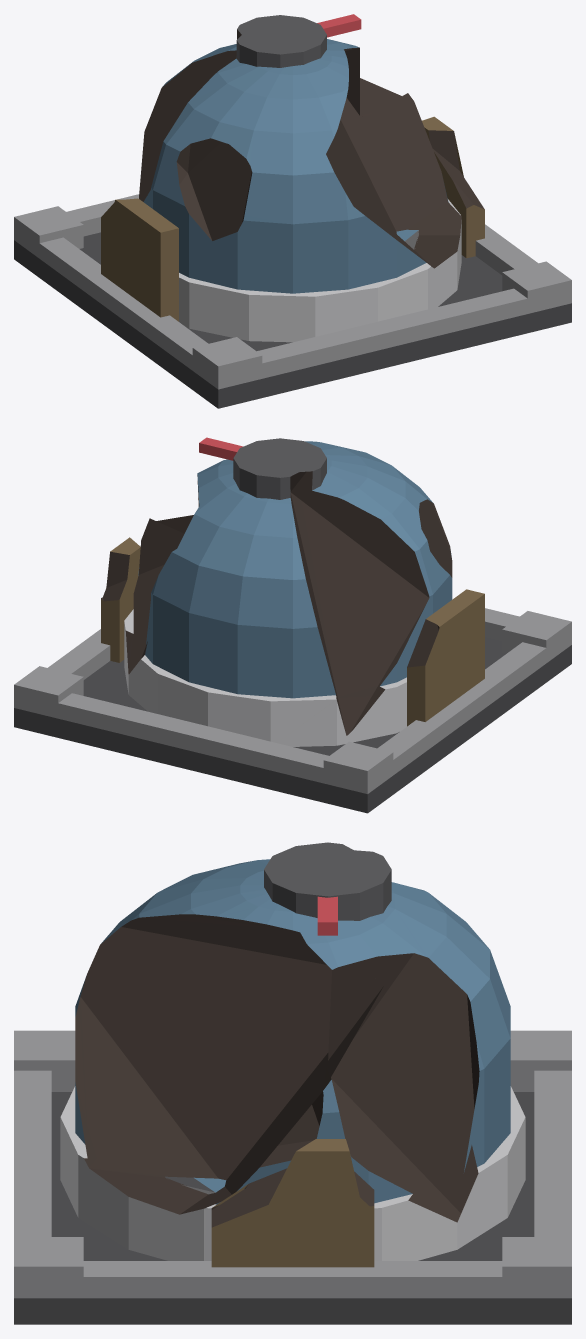
The model's file is vge_d_lifesupportsystem.obj.
3 renders of one model, top to bottom at view 1: azimuth 30°, elevation 25°; view 2: azimuth 150°, elevation 25°; view 3: azimuth 270°, elevation 25°, orthographic. The views are drawn at different scales.
Parts seen in each view (by area): view 1: vge_d_lifesupportsystem; view 2: vge_d_lifesupportsystem; view 3: vge_d_lifesupportsystem.
Boxes of the visible parts, left/top/right/bottom form: vge_d_lifesupportsystem: left=14, top=14, right=571, bottom=408; vge_d_lifesupportsystem: left=14, top=437, right=571, bottom=813; vge_d_lifesupportsystem: left=14, top=842, right=571, bottom=1324.
Size of the model in its own units: 1.92 by 1.28 by 1.92.
